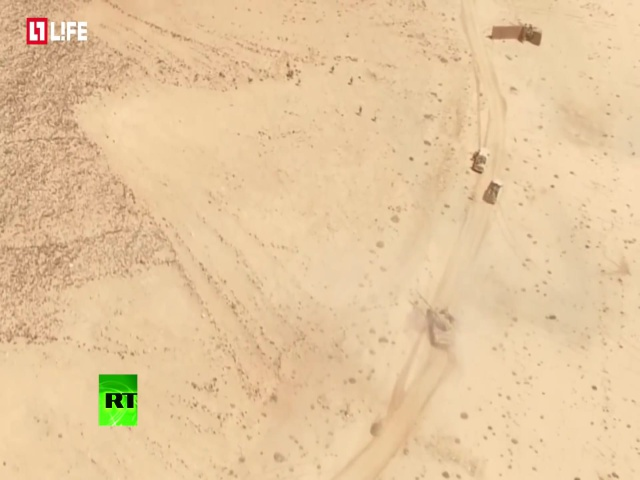vehicle: (424, 301, 459, 354), (481, 174, 504, 209), (470, 142, 493, 175)
